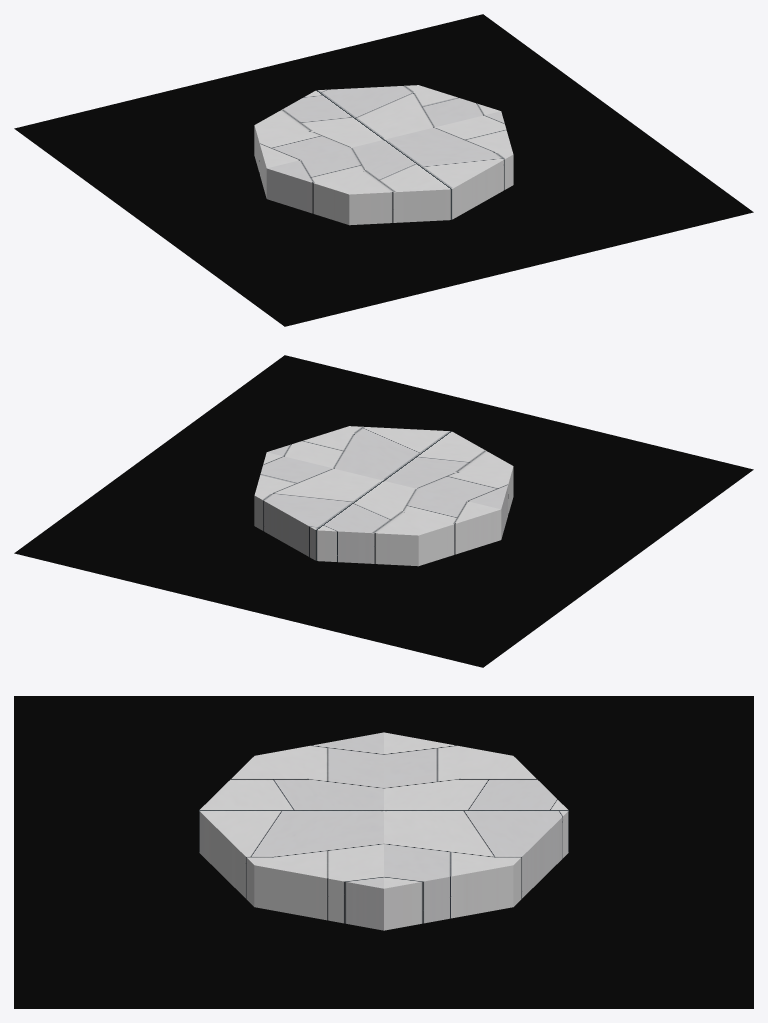
Rendered from Rotonda.fbx.
3 renders of one model, top to bottom at view 1: azimuth 30°, elevation 25°; view 2: azimuth 150°, elevation 25°; view 3: azimuth 270°, elevation 25°, orthographic. The views are drawn at different scales.
Visible parts, largest first — view 1: Roundabout; view 2: Roundabout; view 3: Roundabout.
Part boxes in pixels (left/top/right/bottom): Roundabout: left=14, top=14, right=753, bottom=326; Roundabout: left=14, top=355, right=753, bottom=667; Roundabout: left=14, top=696, right=753, bottom=1008.
Size of the model in its own units: 1600 by 100 by 1600.
